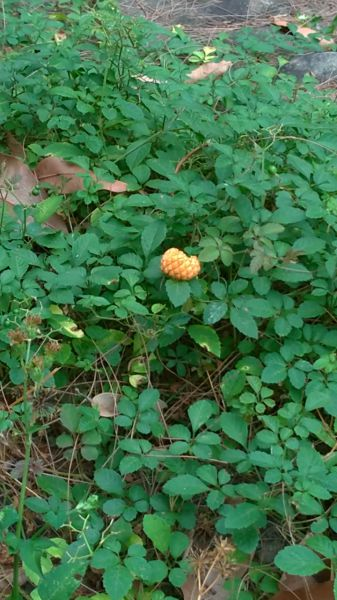eggs: (158, 247, 204, 282)
